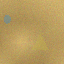person: (3, 14, 10, 23)
structure: (31, 33, 49, 50)
